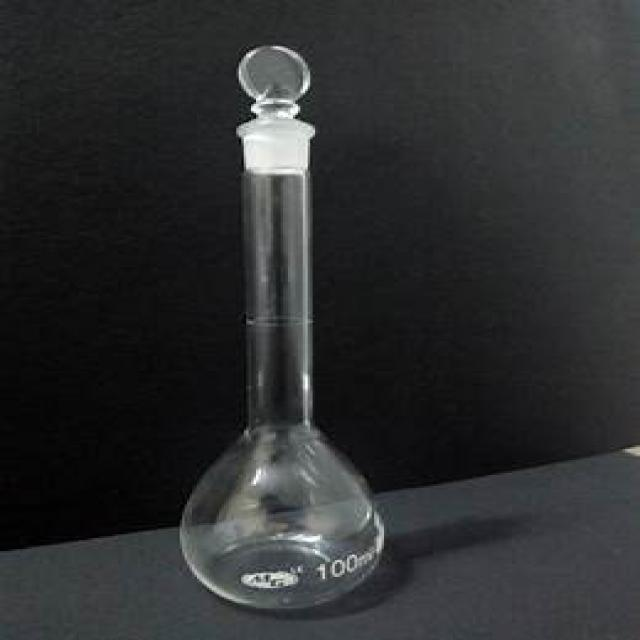Volumetric flask: (174, 27, 389, 611)
